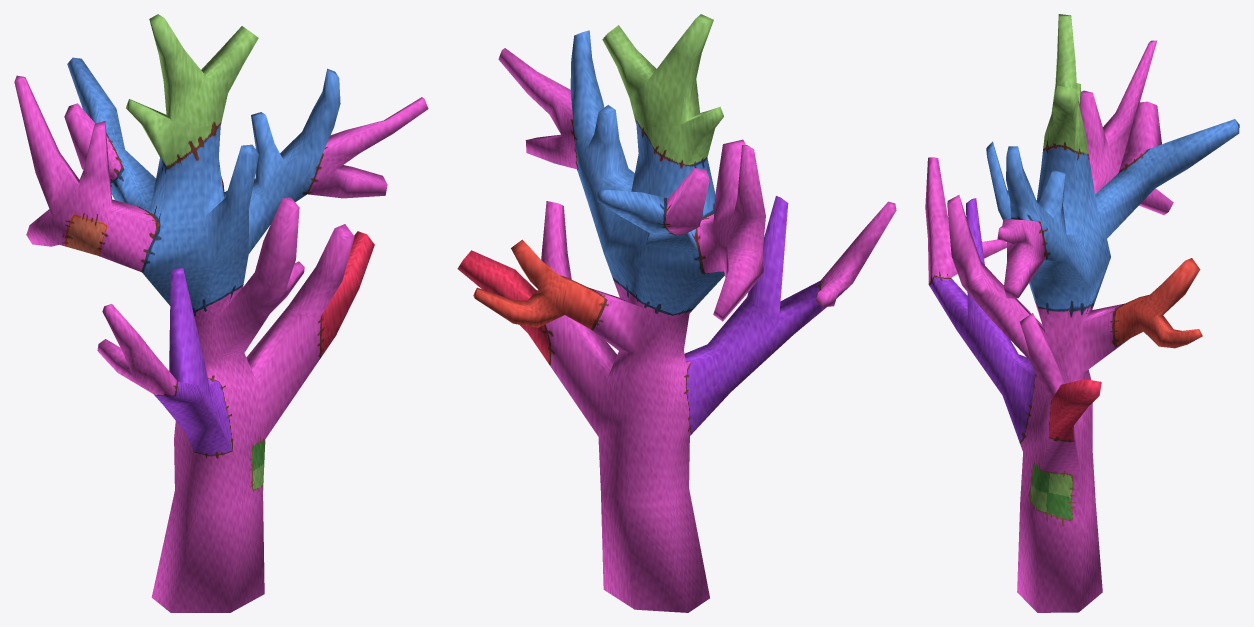
The model's file is coral_tree (1).fbx.
The picture shows the model from 3 angles, left to right: view 1: azimuth 30°, elevation 25°; view 2: azimuth 150°, elevation 25°; view 3: azimuth 270°, elevation 25°; orthographic projection. The views are drawn at different scales.
Visible parts, largest first — view 1: Cube; view 2: Cube; view 3: Cube.
Boxes of the visible parts, x1=… form: Cube: x1=14, y1=14, x2=428, y2=612; Cube: x1=457, y1=14, x2=896, y2=612; Cube: x1=925, y1=14, x2=1239, y2=612.
Bounding box in the file's own units: 290 × 454 × 233.
